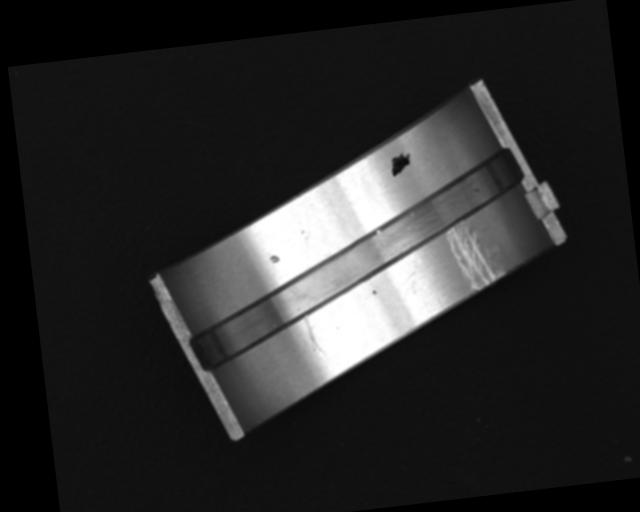blot: (388, 152, 414, 178)
bruise: (268, 254, 280, 264), (372, 287, 377, 294)
gap: (169, 147, 539, 374)
nick: (303, 313, 328, 361)
scratch: (446, 220, 507, 292)
